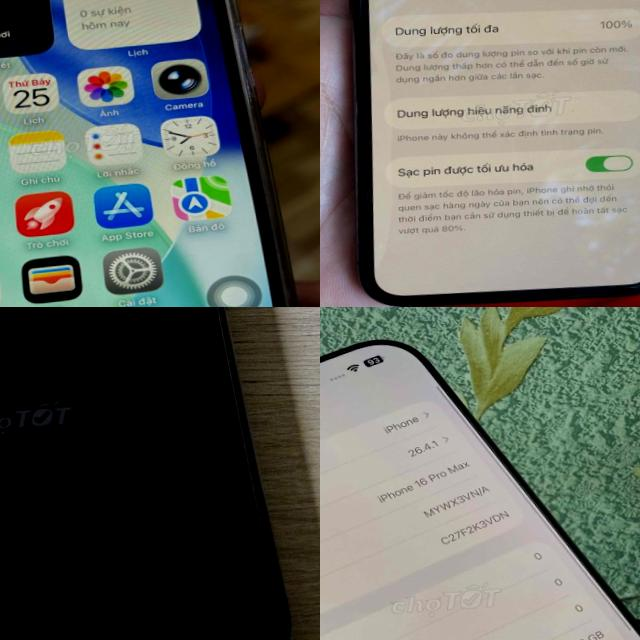gen_11: (352, 0, 640, 305)
gen_12_13: (0, 307, 320, 640), (0, 0, 320, 307)
gen_16: (320, 313, 640, 640)
